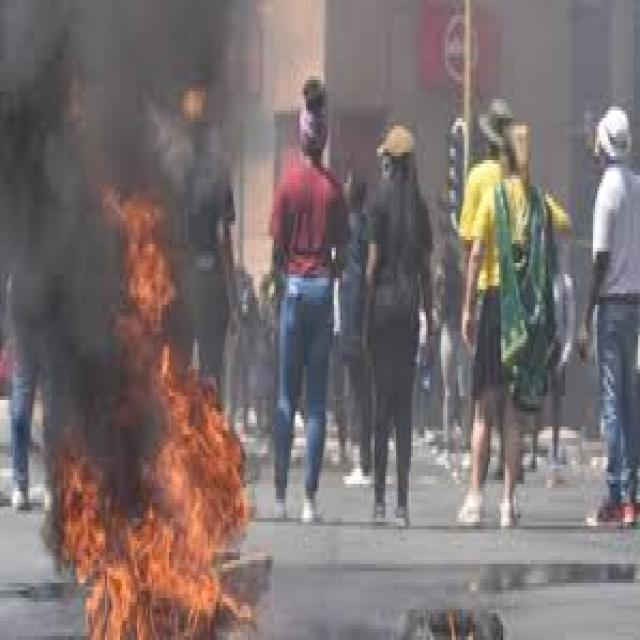Fire: (59, 432, 244, 638), (107, 176, 171, 372), (122, 372, 228, 430), (446, 620, 477, 640)
Smoke: (2, 1, 242, 176), (2, 174, 106, 426), (174, 147, 242, 372)
